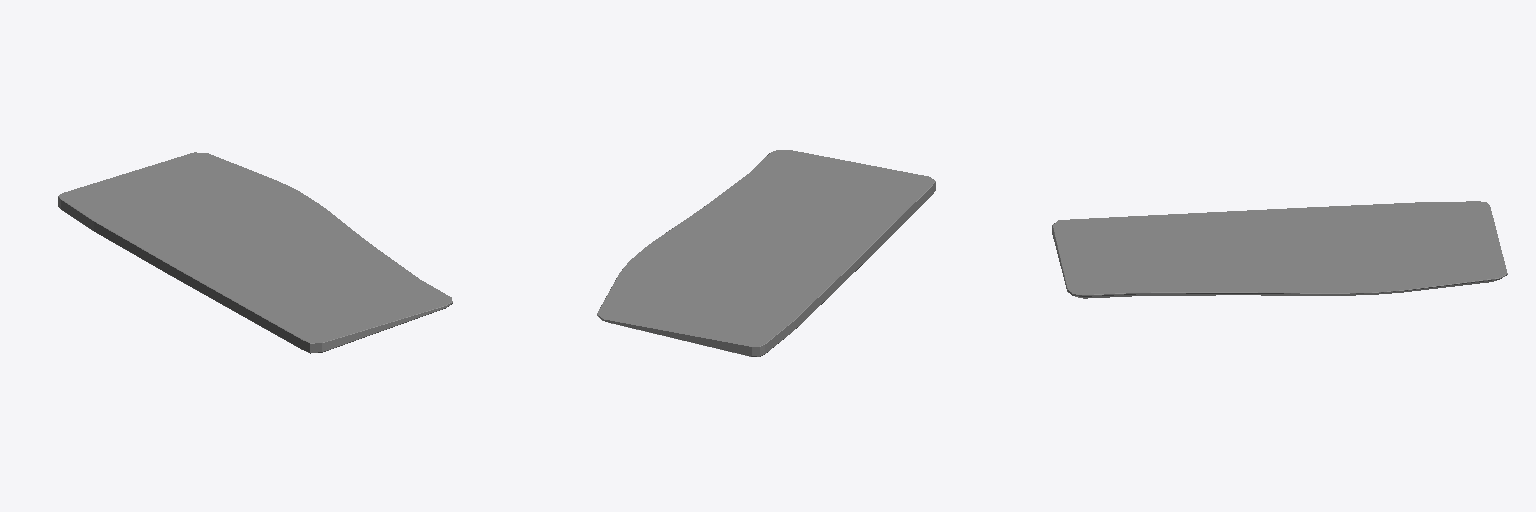
File: teclado.obj
The picture shows the model from 3 angles: view 1: azimuth 30°, elevation 25°; view 2: azimuth 150°, elevation 25°; view 3: azimuth 270°, elevation 25°; orthographic projection.
Parts seen in each view (by area): view 1: 10105_Computer_Keyboard_v1_L3; view 2: 10105_Computer_Keyboard_v1_L3; view 3: 10105_Computer_Keyboard_v1_L3.
Part boxes in pixels (bbox=[...]): 10105_Computer_Keyboard_v1_L3: bbox=[58, 152, 452, 353]; 10105_Computer_Keyboard_v1_L3: bbox=[597, 150, 935, 356]; 10105_Computer_Keyboard_v1_L3: bbox=[1052, 201, 1507, 298].
Size of the model in its own units: 0.5743 by 0.0447 by 1.17.